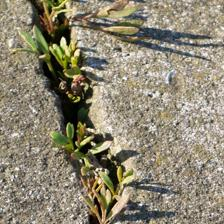Crack: (20, 4, 136, 220)
